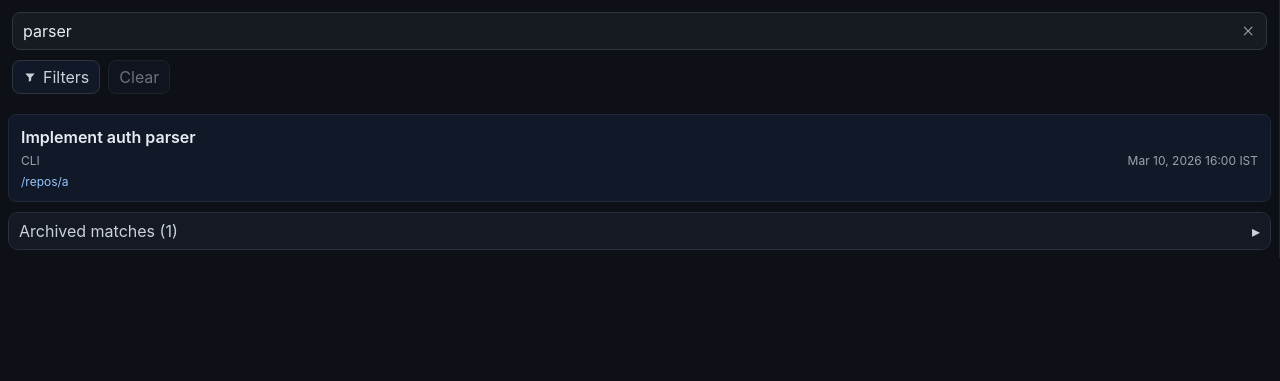
SessionListSidebar › shows collapsed archived search section and expands on click
This screenshot has width=1280, height=381.
expect the text "Archived parser notes" is not shown: met
Click the text "Archived matches (1)". click: (98, 231)
box: [19, 221, 178, 241]
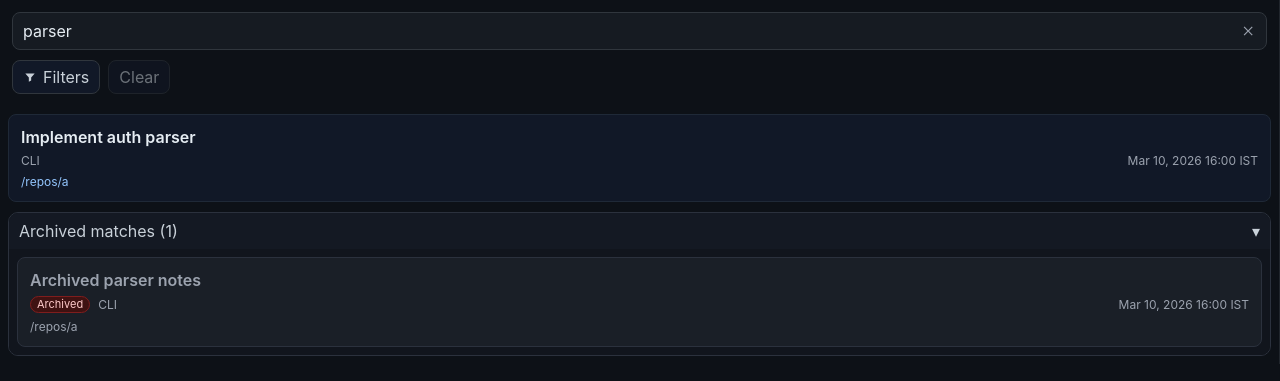
expect the text "Archived parser notes" is shown: met, box [30, 270, 201, 290]
